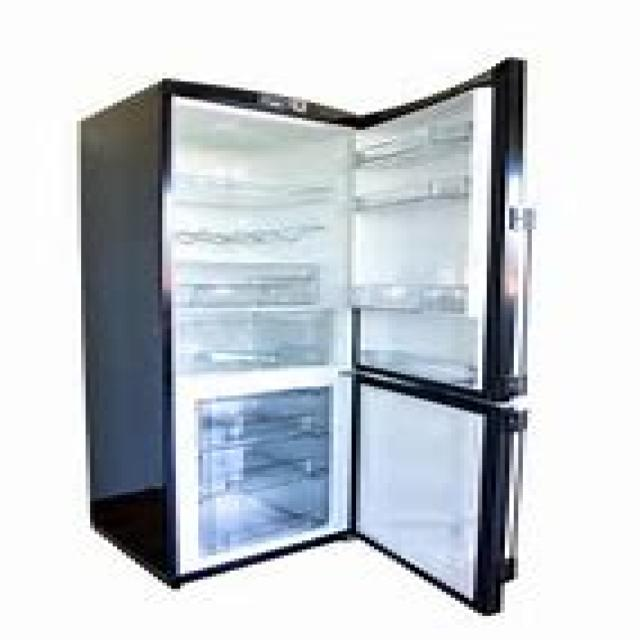fridge: (76, 54, 532, 613)
